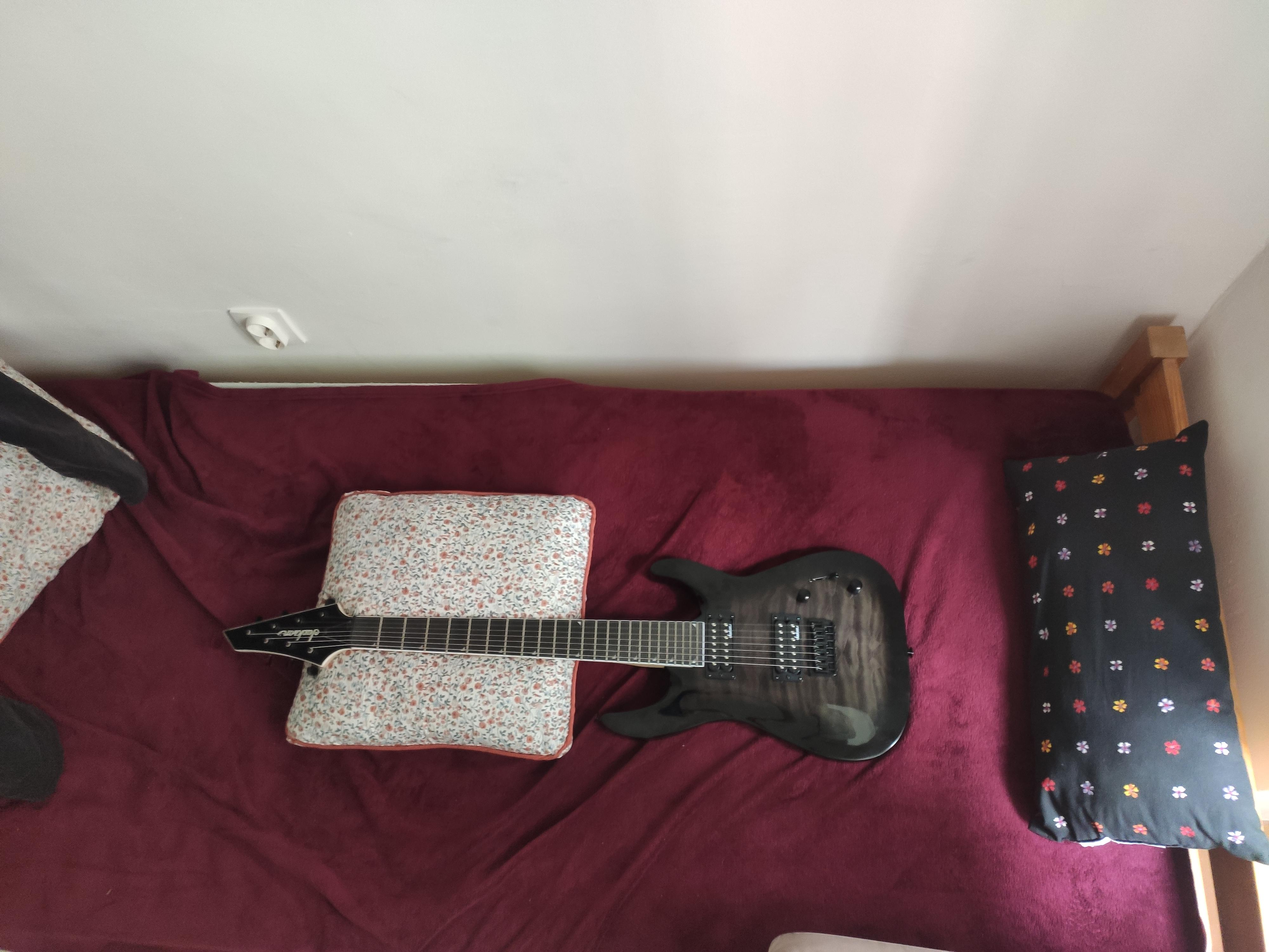acousticguitar: (206, 545, 911, 762)
